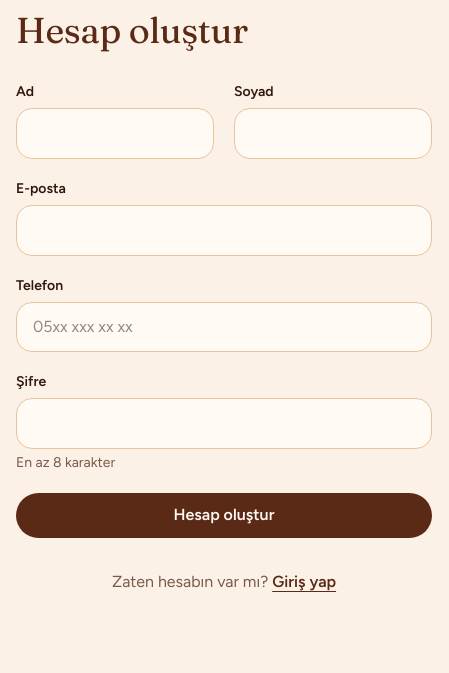
it: RegisterPage › shows a message when the email is taken
The image size is (449, 673).
Type "Ali" into the field labelled "Ad" at (115, 133), box [16,108,214,159]
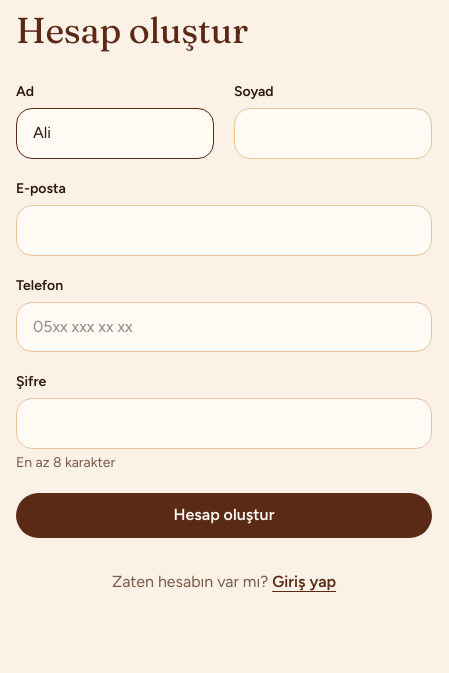
Type "Yılmaz" into the field labelled "Soyad" at (333, 133), box [234,108,432,159]
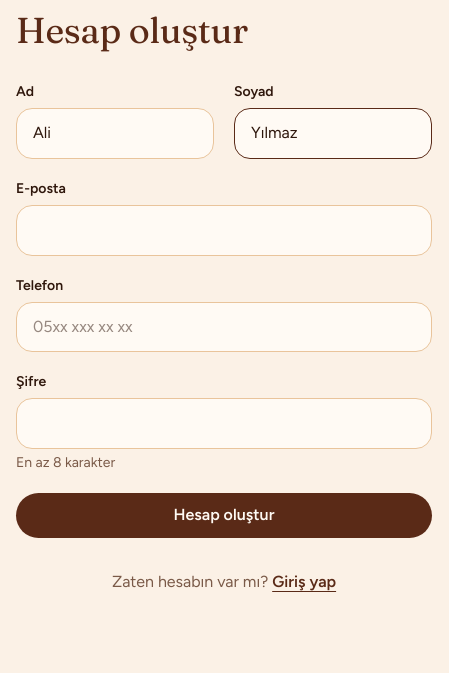
Type "ali@x.com" into the field labelled "E-posta" at (224, 230), box [16,205,432,256]
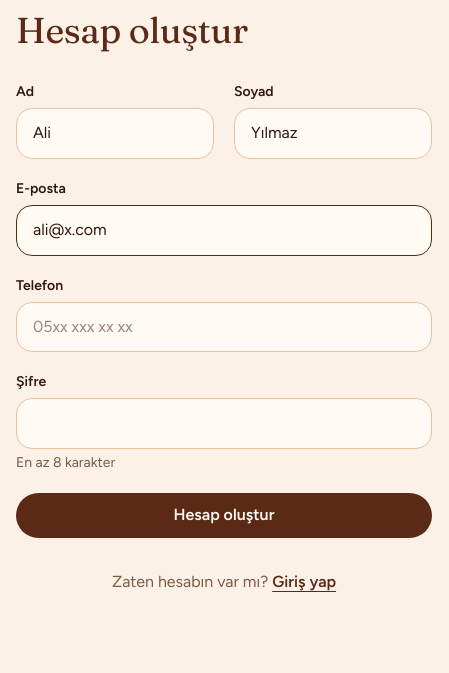
Type "0555 111 22 33" into the field labelled "Telefon" at (224, 327), box [16,302,432,352]
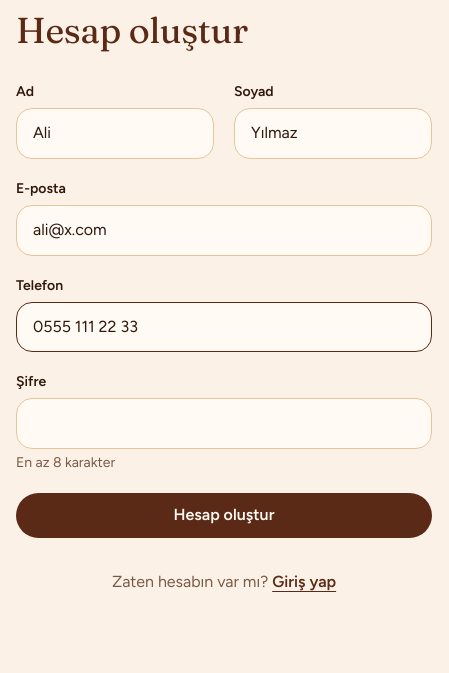
Type "Sifre-1234" into the password field labelled "Şifre" at (224, 424), box [16,398,432,449]
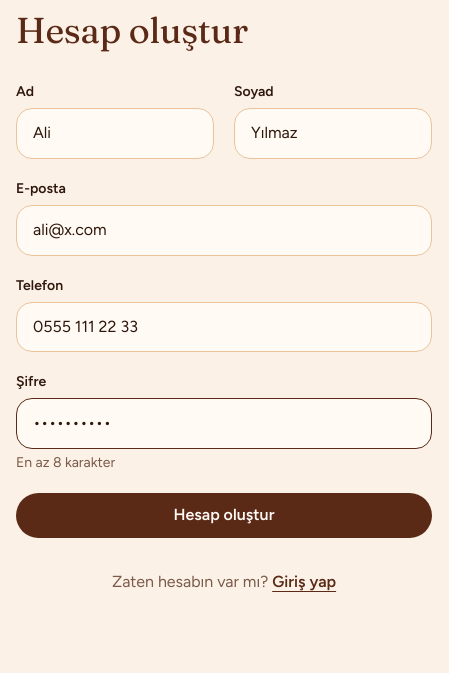
Click the button "Hesap oluştur" at (224, 516), box [16,493,432,538]
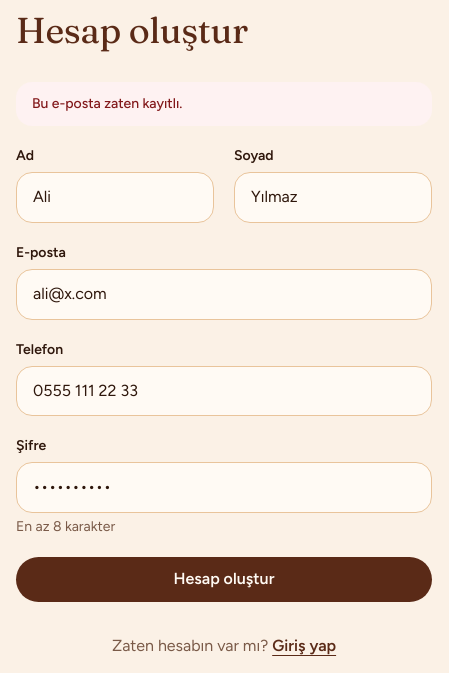
Check: the message reads "Bu e-posta zaten kayıtlı.", box [32,95,182,112]
